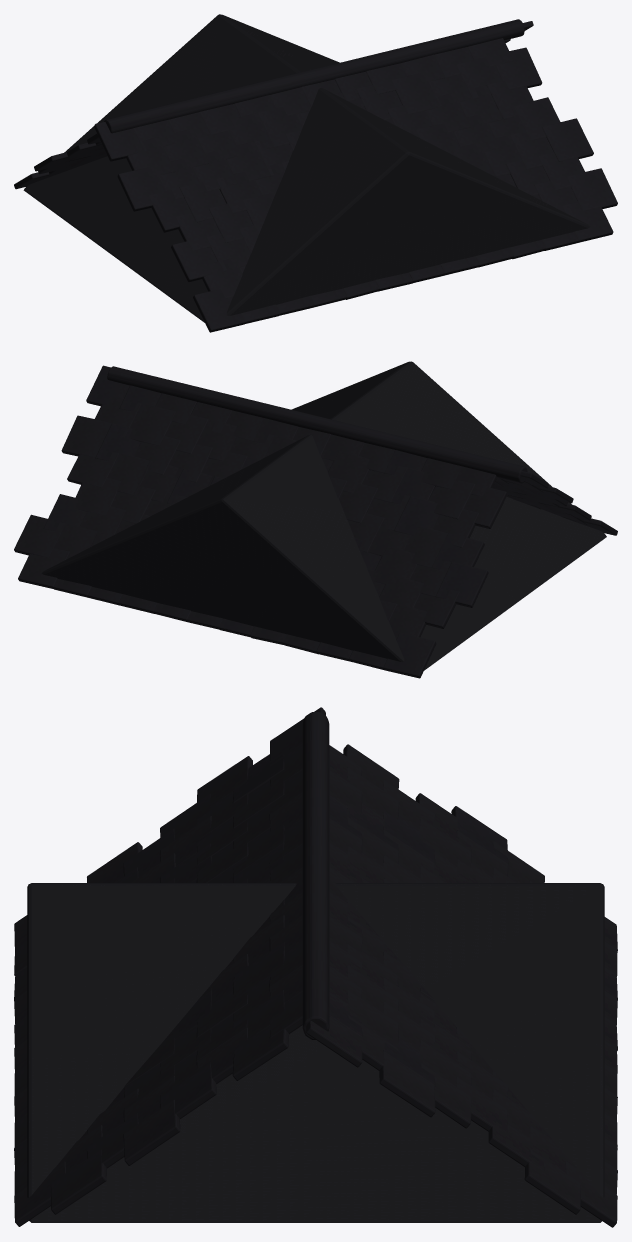
Rendered from prop_town_roof.glb.
3 renders of one model, top to bottom at view 1: azimuth 30°, elevation 25°; view 2: azimuth 150°, elevation 25°; view 3: azimuth 270°, elevation 25°, orthographic. The views are drawn at different scales.
Parts seen in each view (by area): view 1: slate; view 2: slate; view 3: slate.
Boxes of the visible parts, box(x1,y1,x2,y2) form: slate: box(14, 14, 617, 332); slate: box(14, 361, 617, 678); slate: box(14, 707, 617, 1227).
Bounding box in the file's own units: 7.86 × 2.44 × 6.21.
1 material, 1 textured.
